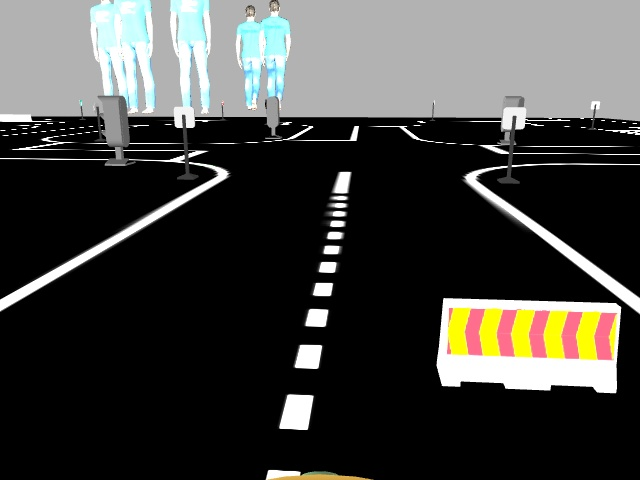ClosedRoadStand: (443, 296, 616, 388)
